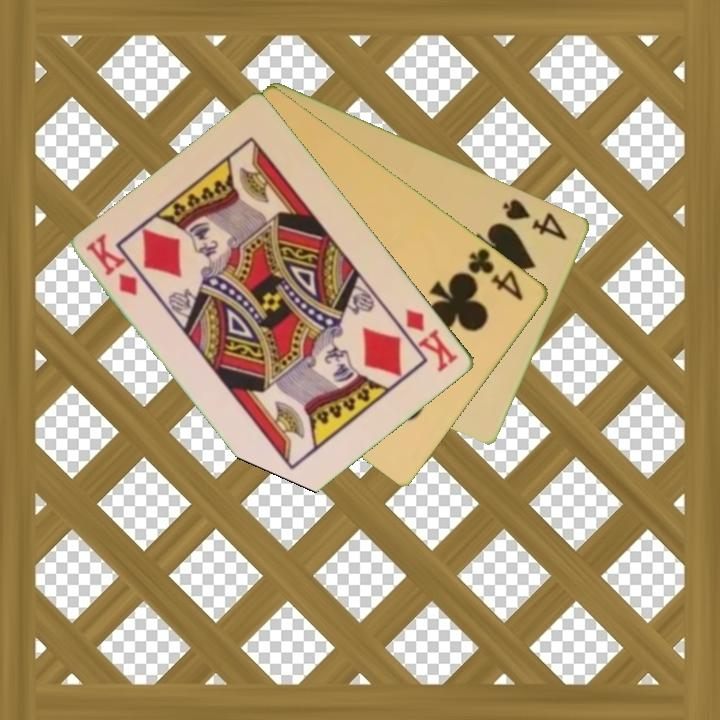4c: (464, 244, 527, 304)
4s: (499, 195, 571, 243)
Kd: (402, 305, 462, 375), (82, 231, 142, 299)
